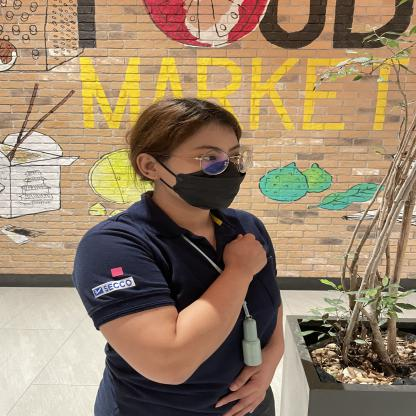Sadness: (183, 223, 294, 299)
